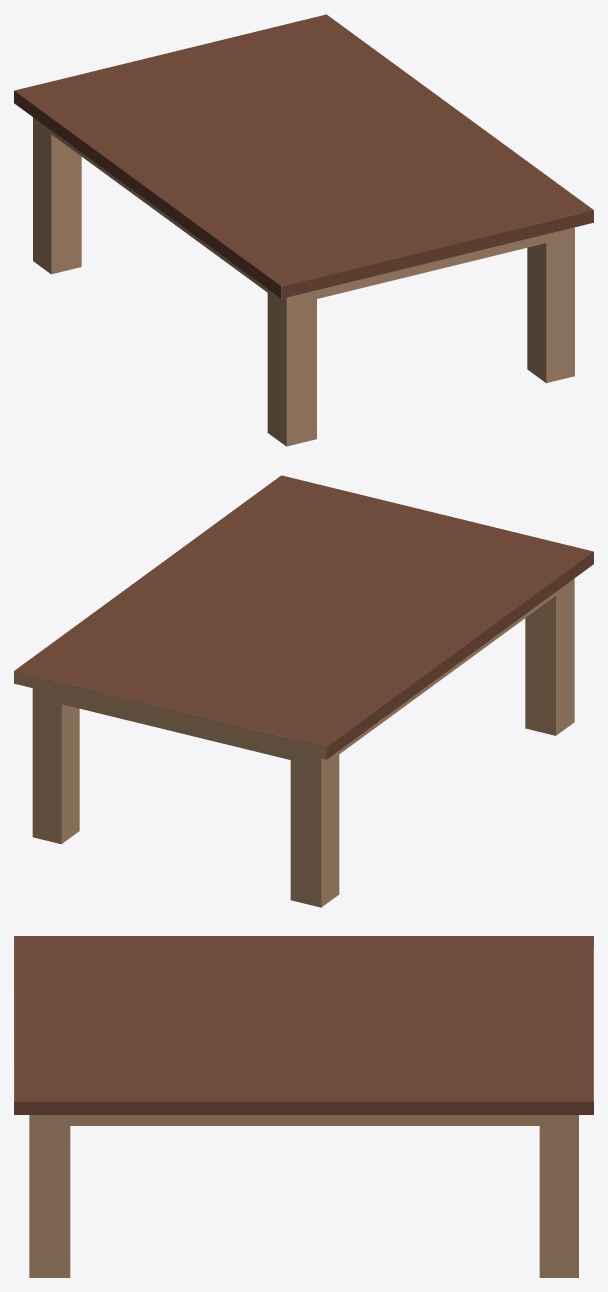
The model's file is table.fbx.
The picture shows the model from 3 angles, top to bottom: view 1: azimuth 30°, elevation 25°; view 2: azimuth 150°, elevation 25°; view 3: azimuth 270°, elevation 25°; orthographic projection. The views are drawn at different scales.
Visible parts, largest first — view 1: table; view 2: table; view 3: table.
Part boxes in pixels (x1,y1,x2,y2): table: (14, 14, 593, 446); table: (14, 475, 593, 907); table: (14, 936, 593, 1277).
Size of the model in its own units: 1.79 by 0.9221 by 2.66.
